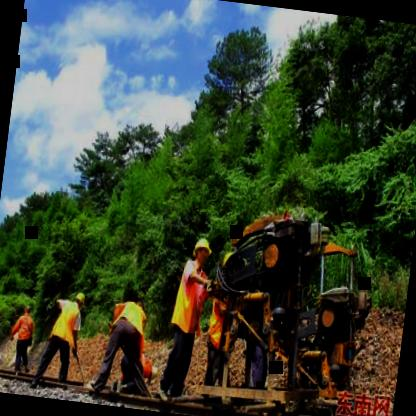helmet: (188, 232, 216, 270), (70, 283, 89, 312)
